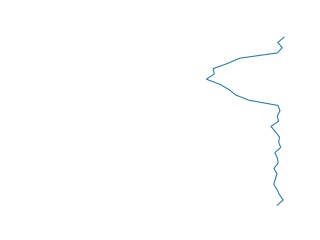distalBar: (202, 37, 290, 207)
